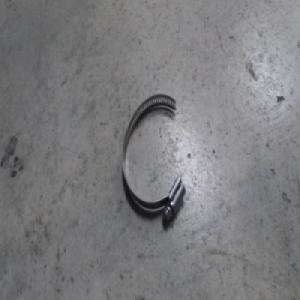AdjustableClamp: (121, 91, 186, 218)
